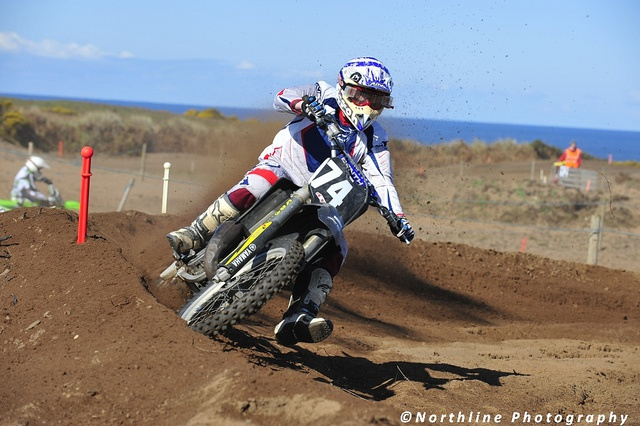non-vehicle: (170, 101, 403, 336), (0, 199, 80, 215)
